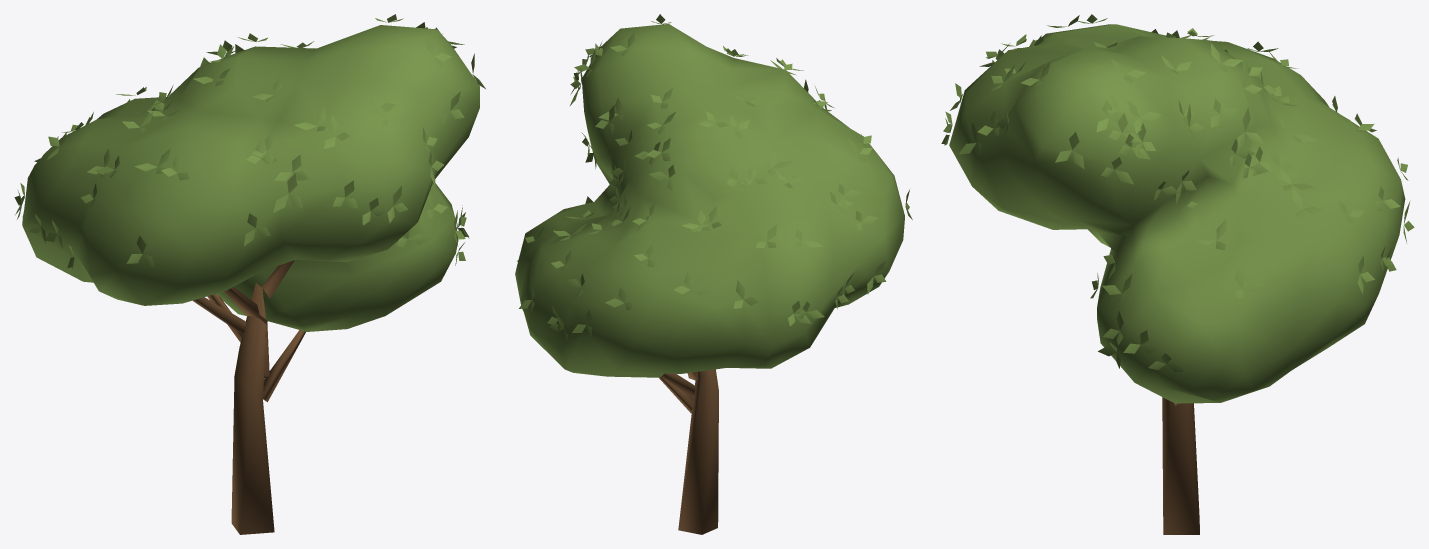
File: layered-b-light.glb
The picture shows the model from 3 angles, left to right: view 1: azimuth 30°, elevation 25°; view 2: azimuth 150°, elevation 25°; view 3: azimuth 270°, elevation 25°; orthographic projection. The views are drawn at different scales.
Parts seen in each view (by area): view 1: layered-b.001; view 2: layered-b.001; view 3: layered-b.001.
Part boxes in pixels (x1,y1,x2,y2): layered-b.001: (14,14,485,534); layered-b.001: (515,14,912,534); layered-b.001: (941,14,1414,534).
Bounding box in the file's own units: 1.79 × 2.18 × 1.78.
